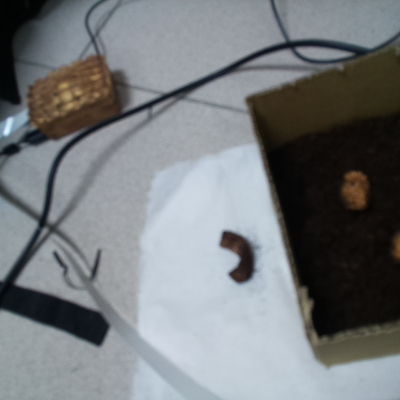eggs: (331, 162, 373, 217)
